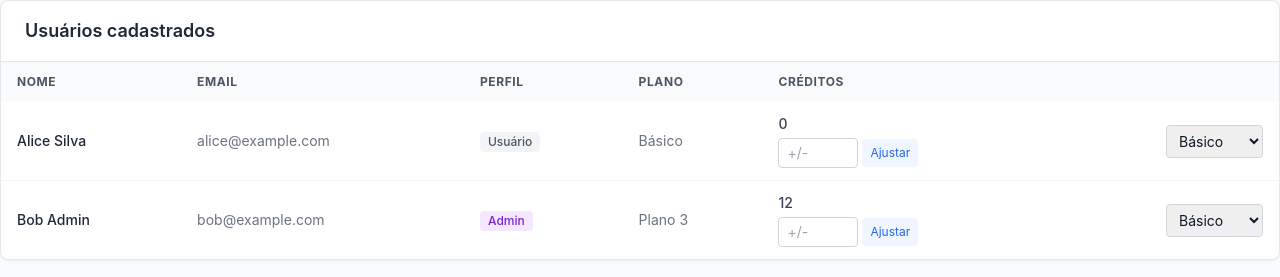
it: UserManagement component › exibe mensagem de sucesso após alterar plano (Req 11.4)
This screenshot has width=1280, height=277.
Select "Premium" in the dropdown named "Alterar plano de Alice Silva" at (1214,141), box left=1166, top=124, right=1263, bottom=158
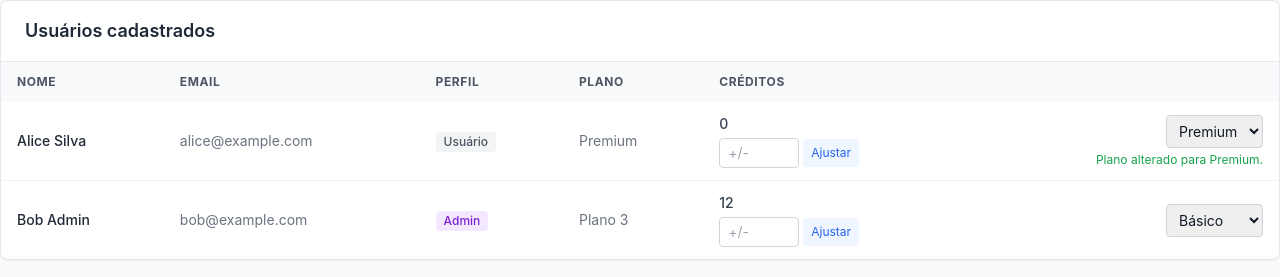
Expected: the text "Plano alterado para Premium." is shown, left=1096, top=152, right=1263, bottom=168
